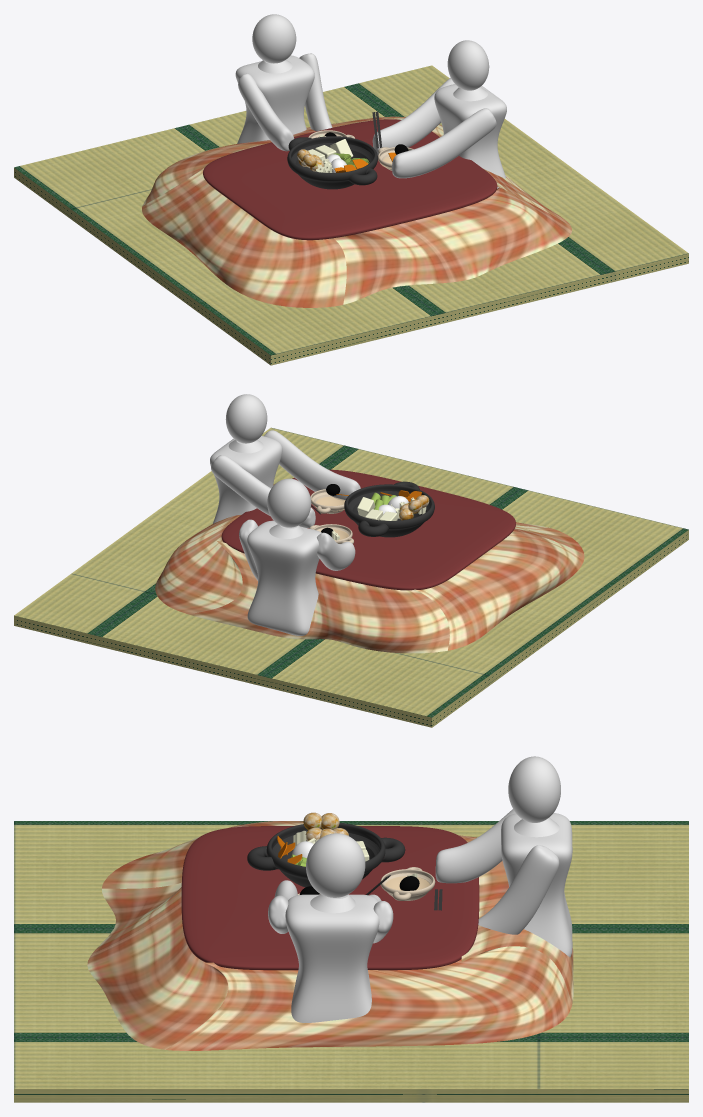
Rendered from kotatu.glb.
3 views of the same model, one above another, from view 1: azimuth 30°, elevation 25°; view 2: azimuth 150°, elevation 25°; view 3: azimuth 270°, elevation 25° (orthographic). The views are drawn at different scales.
Parts seen in each view (by area): view 1: object 65, object 64, object 12, object 78, object 79, object 88, 土鍋, object 87, object 77, object 81, object 75, object 74; view 2: object 65, object 64, object 12, object 78, object 88, object 79, 土鍋, object 87, object 77, object 81, object 75, object 33 (+1 smaller); view 3: object 65, object 64, object 12, object 88, object 78, object 74, 土鍋 (×2), object 81, object 77, object 75, object 79, object 76 (+2 smaller).
Boxes of the visible parts, <box> form: object 65: <box>14,65,688,365</box>; object 64: <box>142,116,571,307</box>; object 12: <box>203,119,497,240</box>; object 78: <box>235,55,314,143</box>; object 79: <box>392,108,496,178</box>; object 88: <box>434,84,506,188</box>; 土鍋: <box>287,136,377,189</box>; object 87: <box>372,77,454,154</box>; object 77: <box>252,14,296,63</box>; object 81: <box>447,40,489,90</box>; object 75: <box>238,73,294,151</box>; object 74: <box>299,53,332,131</box>; object 65: <box>14,427,688,727</box>; object 64: <box>155,483,584,653</box>; object 12: <box>221,469,515,590</box>; object 78: <box>247,520,321,635</box>; object 88: <box>210,435,282,523</box>; object 79: <box>264,430,360,500</box>; 土鍋: <box>344,484,434,537</box>; object 87: <box>211,455,315,527</box>; object 77: <box>267,478,311,527</box>; object 81: <box>225,394,267,443</box>; object 75: <box>317,532,355,570</box>; object 33: <box>310,489,344,513</box>; object 65: <box>14,821,688,1102</box>; object 64: <box>87,821,573,1050</box>; object 12: <box>181,826,479,970</box>; object 88: <box>285,894,379,1022</box>; object 78: <box>501,813,572,956</box>; object 74: <box>478,845,559,934</box>; 土鍋 (×2): <box>266,822,435,900</box>; object 81: <box>306,833,365,897</box>; object 77: <box>508,756,560,822</box>; object 75: <box>435,809,515,883</box>; object 79: <box>268,880,297,933</box>; object 76: <box>514,817,559,837</box>.
Bounding box in the file's own units: 0.099 × 0.0352 × 0.1054.
Materials: 13 (3 with a texture image).
